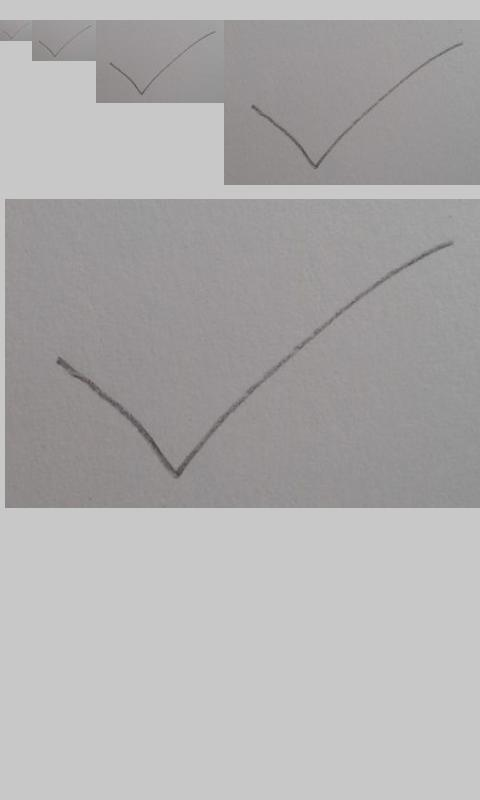check_box: (56, 241, 453, 480), (252, 41, 463, 169), (109, 30, 215, 96), (39, 25, 91, 58), (3, 22, 28, 39)
